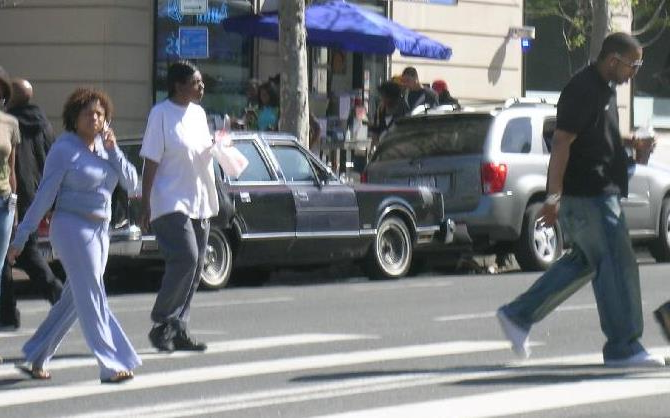pedestrian: (496, 32, 663, 365), (9, 90, 140, 381), (139, 63, 219, 353)
